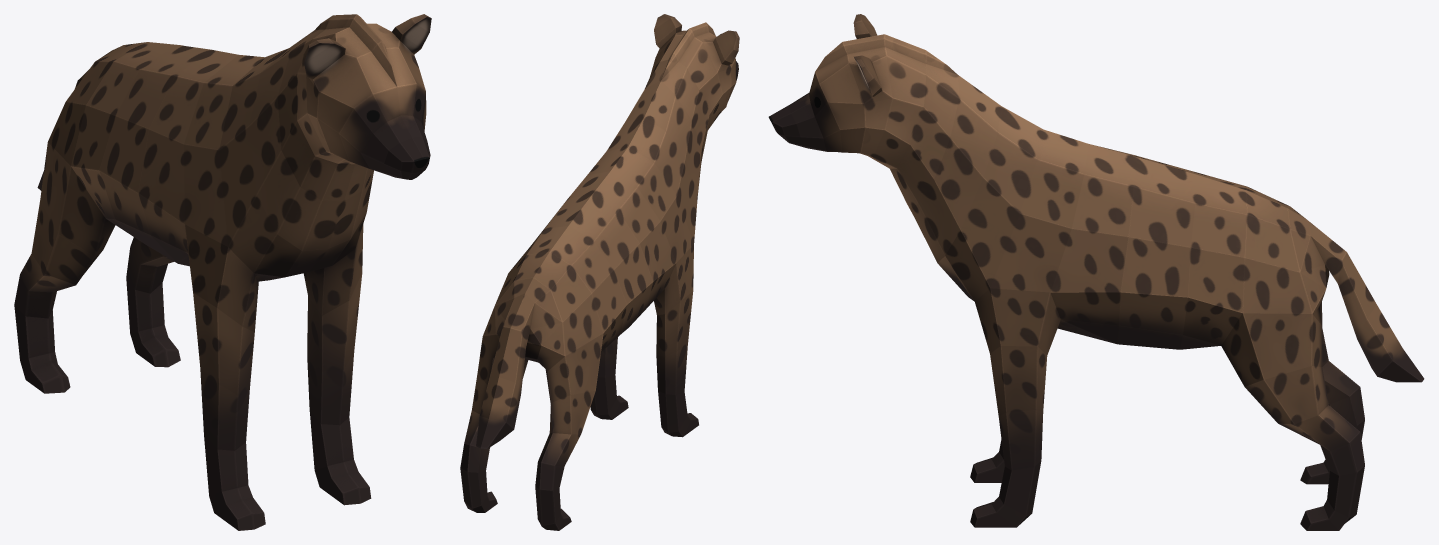
The model's file is Spotted hyena.glb.
3 renders of one model, left to right at view 1: azimuth 30°, elevation 25°; view 2: azimuth 150°, elevation 25°; view 3: azimuth 270°, elevation 25°, orthographic. The views are drawn at different scales.
Visible parts, largest first — view 1: SpottedHyena_mesh; view 2: SpottedHyena_mesh; view 3: SpottedHyena_mesh.
Boxes of the visible parts, x1,y1,x2,y2 form: SpottedHyena_mesh: (14, 14, 431, 530); SpottedHyena_mesh: (460, 14, 739, 530); SpottedHyena_mesh: (768, 14, 1424, 530).
Bounding box in the file's own units: 1.09 × 3.43 × 4.36.
Materials: 1 (1 with a texture image).
